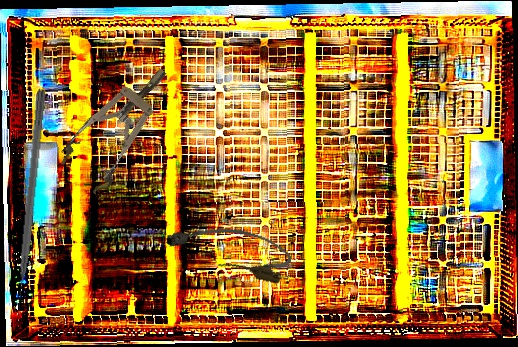Cannula: (162, 210, 296, 287)
Pusher: (11, 87, 47, 315)
Speculum: (53, 52, 188, 199)
